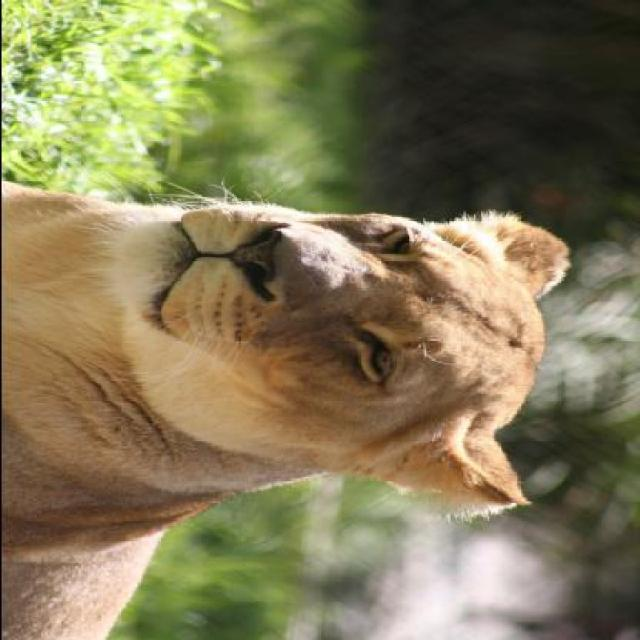Lion: (2, 178, 586, 638)
